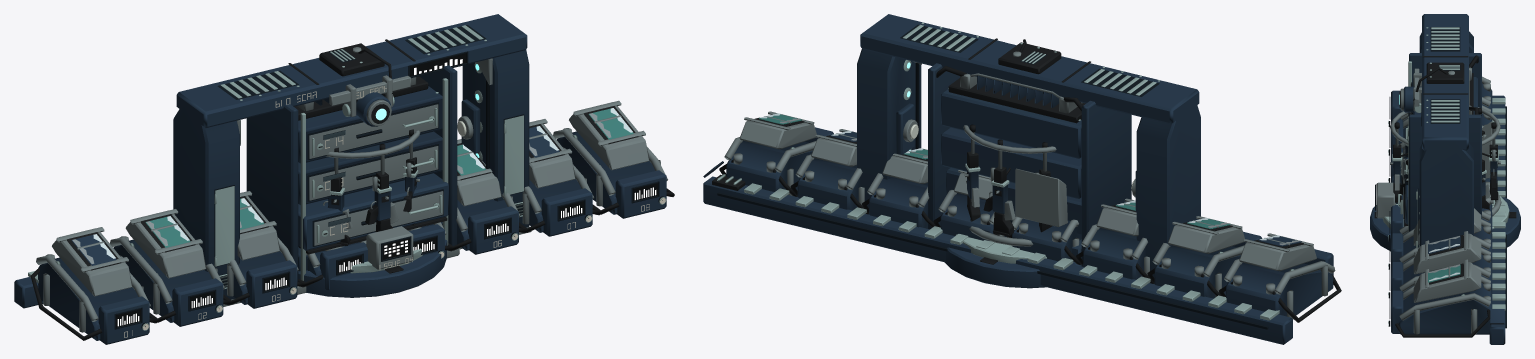
Rendered from clinical-security.glb.
The picture shows the model from 3 angles, left to right: view 1: azimuth 30°, elevation 25°; view 2: azimuth 150°, elevation 25°; view 3: azimuth 270°, elevation 25°; orthographic projection. The views are drawn at different scales.
Visible parts, largest first — view 1: checkpoint-scanner-gate--p11-tint-metal, awakening-berth-array--p11-tint-metal, awakening-berth-array--p11-steel, passenger-sleeper-carrier--p11-tint-metal, passenger-sleeper-carrier--p11-steel, awakening-berth-array--p11-tint, checkpoint-scanner-gate--e9-trim, armory-weapon-carousel--p11-tint-metal, awakening-berth-array--p11-rubber, checkpoint-scanner-gate--e9-dark, passenger-sleeper-carrier--e9-trim, armory-weapon-carousel--p11-steel (+10 smaller); view 2: awakening-berth-array--p11-tint-metal, checkpoint-scanner-gate--p11-tint-metal, passenger-sleeper-carrier--p11-tint-metal, awakening-berth-array--p11-steel, awakening-berth-array--e9-trim, armory-weapon-carousel--p11-tint-metal, awakening-berth-array--p11-rubber, checkpoint-scanner-gate--e9-dark, passenger-sleeper-carrier--p11-rubber, awakening-berth-array--e9-dark, armory-weapon-carousel--p11-steel, checkpoint-scanner-gate--e9-trim (+5 smaller); view 3: checkpoint-scanner-gate--p11-tint-metal, awakening-berth-array--p11-tint-metal, awakening-berth-array--p11-steel, passenger-sleeper-carrier--p11-tint-metal, awakening-berth-array--e9-trim, armory-weapon-carousel--p11-steel, armory-weapon-carousel--p11-tint-metal, checkpoint-scanner-gate--e9-trim, checkpoint-scanner-gate--e9-dark, checkpoint-scanner-gate--p11-rubber, armory-weapon-carousel--p11-rubber, awakening-berth-array--p11-rubber (+9 smaller).
Boxes of the visible parts, box(x1,y1,x2,y2) form: checkpoint-scanner-gate--p11-tint-metal: box(173, 14, 529, 299); awakening-berth-array--p11-tint-metal: box(14, 131, 666, 344); awakening-berth-array--p11-steel: box(36, 100, 667, 332); passenger-sleeper-carrier--p11-tint-metal: box(246, 65, 457, 281); passenger-sleeper-carrier--p11-steel: box(297, 76, 459, 294); awakening-berth-array--p11-tint: box(71, 108, 665, 337); checkpoint-scanner-gate--e9-trim: box(214, 25, 523, 289); armory-weapon-carousel--p11-tint-metal: box(298, 175, 447, 297); awakening-berth-array--p11-rubber: box(30, 106, 674, 340); checkpoint-scanner-gate--e9-dark: box(214, 25, 524, 287); passenger-sleeper-carrier--e9-trim: box(300, 78, 448, 280); armory-weapon-carousel--p11-steel: box(323, 130, 421, 269); awakening-berth-array--p11-tint-metal: box(703, 127, 1333, 344); checkpoint-scanner-gate--p11-tint-metal: box(857, 14, 1200, 277); passenger-sleeper-carrier--p11-tint-metal: box(928, 63, 1131, 266); awakening-berth-array--p11-steel: box(724, 111, 1335, 319); awakening-berth-array--e9-trim: box(717, 147, 1294, 320); armory-weapon-carousel--p11-tint-metal: box(945, 170, 1081, 288); awakening-berth-array--p11-rubber: box(712, 117, 1341, 322); checkpoint-scanner-gate--e9-dark: box(900, 24, 1159, 149); passenger-sleeper-carrier--p11-rubber: box(936, 66, 1085, 123); awakening-berth-array--e9-dark: box(717, 192, 1268, 329); armory-weapon-carousel--p11-steel: box(963, 125, 1056, 246); checkpoint-scanner-gate--e9-trim: box(903, 22, 1159, 149); checkpoint-scanner-gate--p11-tint-metal: box(1404, 14, 1473, 246); awakening-berth-array--p11-tint-metal: box(1391, 83, 1505, 344); awakening-berth-array--p11-steel: box(1399, 76, 1492, 334); passenger-sleeper-carrier--p11-tint-metal: box(1405, 53, 1481, 231); awakening-berth-array--e9-trim: box(1388, 98, 1505, 326); armory-weapon-carousel--p11-steel: box(1376, 107, 1501, 219); armory-weapon-carousel--p11-tint-metal: box(1370, 145, 1520, 251); checkpoint-scanner-gate--e9-trim: box(1414, 27, 1459, 250); checkpoint-scanner-gate--e9-dark: box(1418, 27, 1460, 249); checkpoint-scanner-gate--p11-rubber: box(1399, 56, 1468, 107); armory-weapon-carousel--p11-rubber: box(1374, 108, 1516, 218); awakening-berth-array--p11-rubber: box(1395, 231, 1504, 337).
Bounding box in the file's own units: 10.6 × 3.58 × 2.9.
